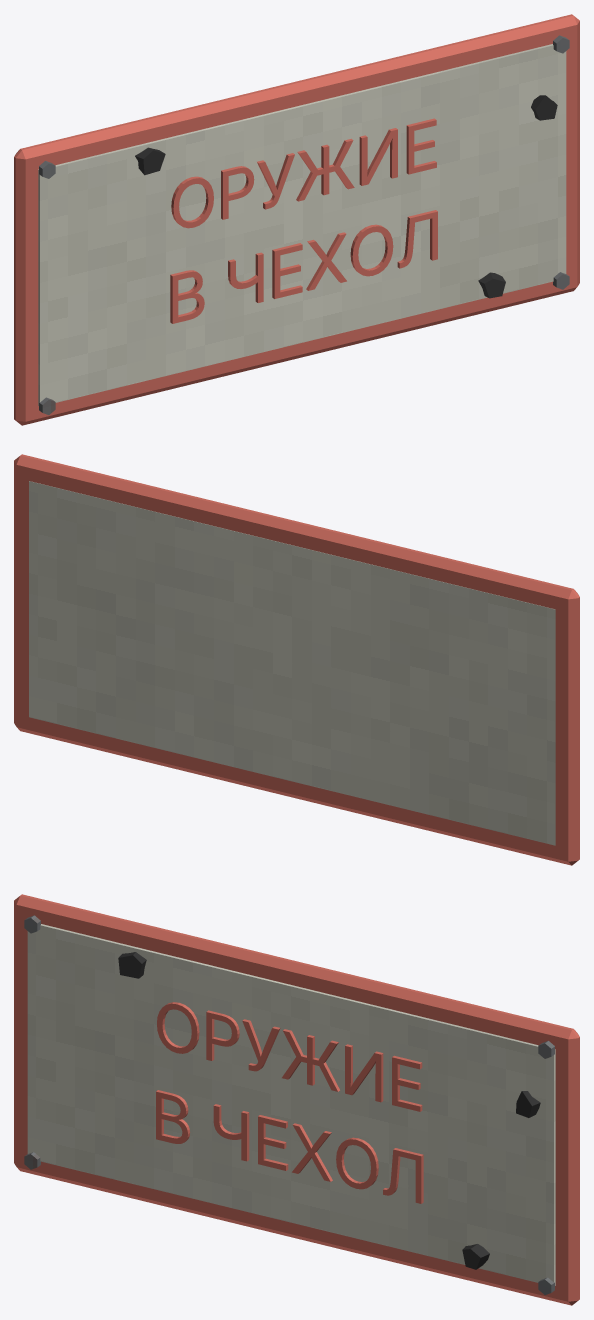
File: sign_weapon_sheath.glb
The picture shows the model from 3 angles, top to bottom: view 1: azimuth 30°, elevation 25°; view 2: azimuth 150°, elevation 25°; view 3: azimuth 330°, elevation 25°; orthographic projection.
Visible parts, largest first — view 1: sign_weapon_sheath; view 2: sign_weapon_sheath; view 3: sign_weapon_sheath.
Part boxes in pixels (<box>): sign_weapon_sheath: <box>14,14,579,425</box>; sign_weapon_sheath: <box>14,454,579,865</box>; sign_weapon_sheath: <box>14,894,579,1305</box>.
Bounding box in the file's own units: 0.9 × 0.42 × 0.0491.
4 materials, 2 textured.
